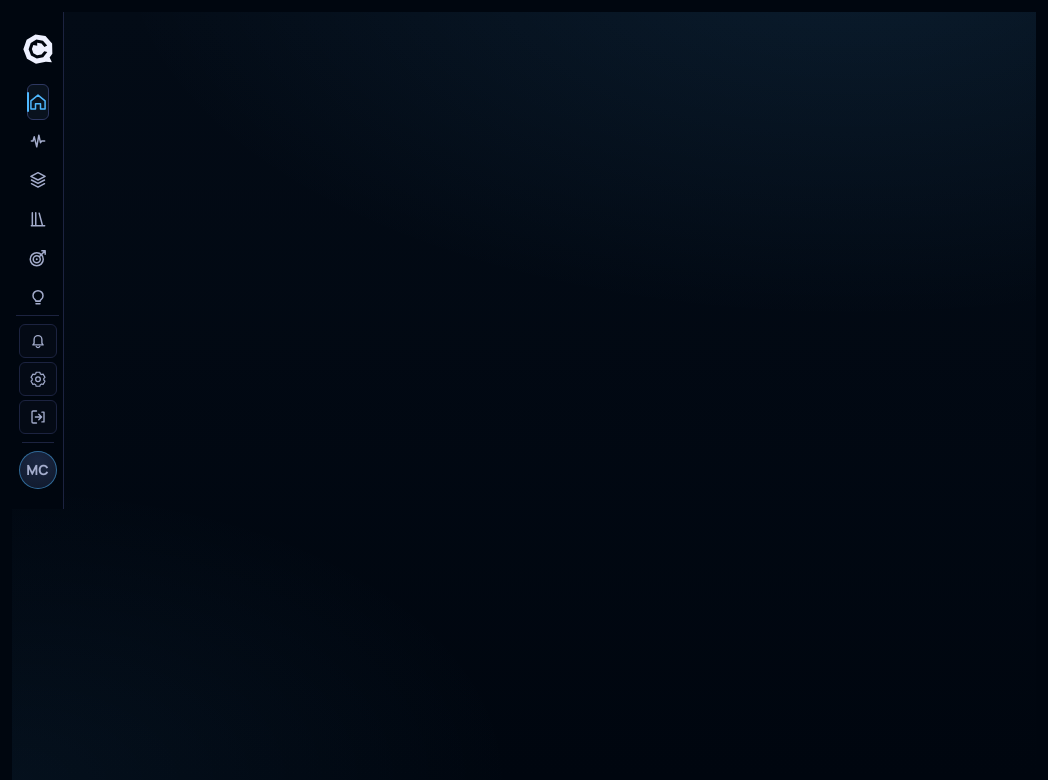
Test: NavRail — responsive modes › opens a stable-width, non-wrapping account menu to the right
Click the button with aria-label "account": (38, 470) left=18, top=451, right=56, bottom=489
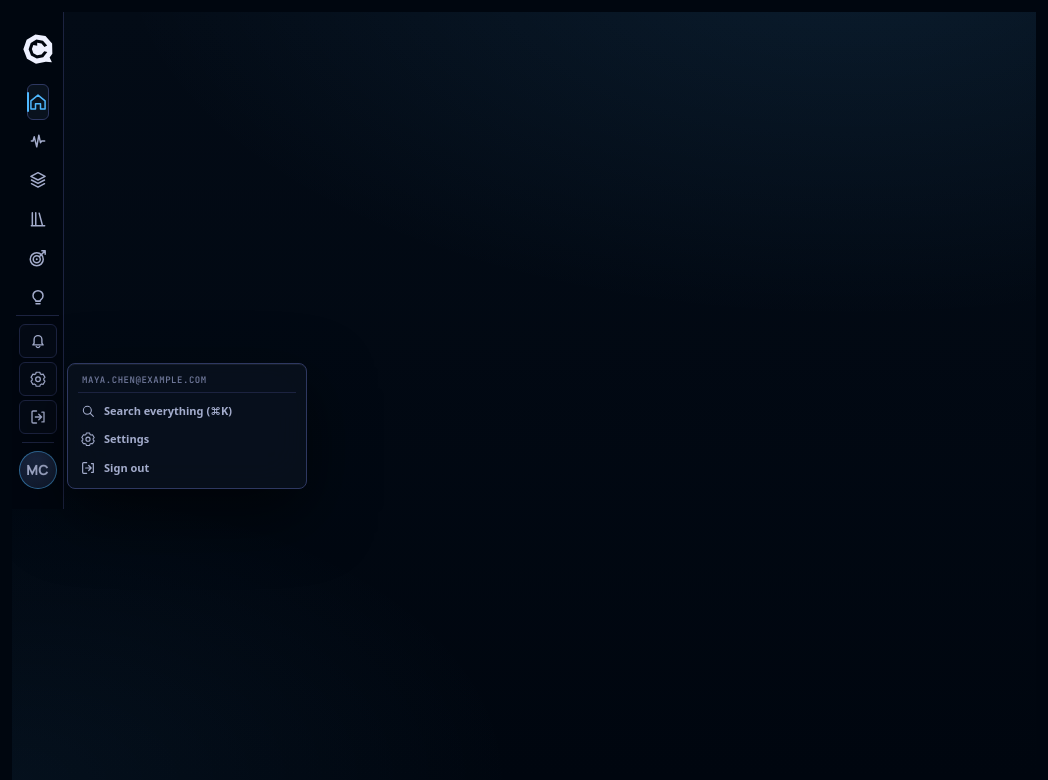
Check: the menu item "Settings" is shown, box left=74, top=425, right=300, bottom=454
Check: the menu item "Sign out" is shown, box left=74, top=454, right=300, bottom=482
Click the menu item "Search everything (⌘K)": (187, 411) left=74, top=396, right=300, bottom=425
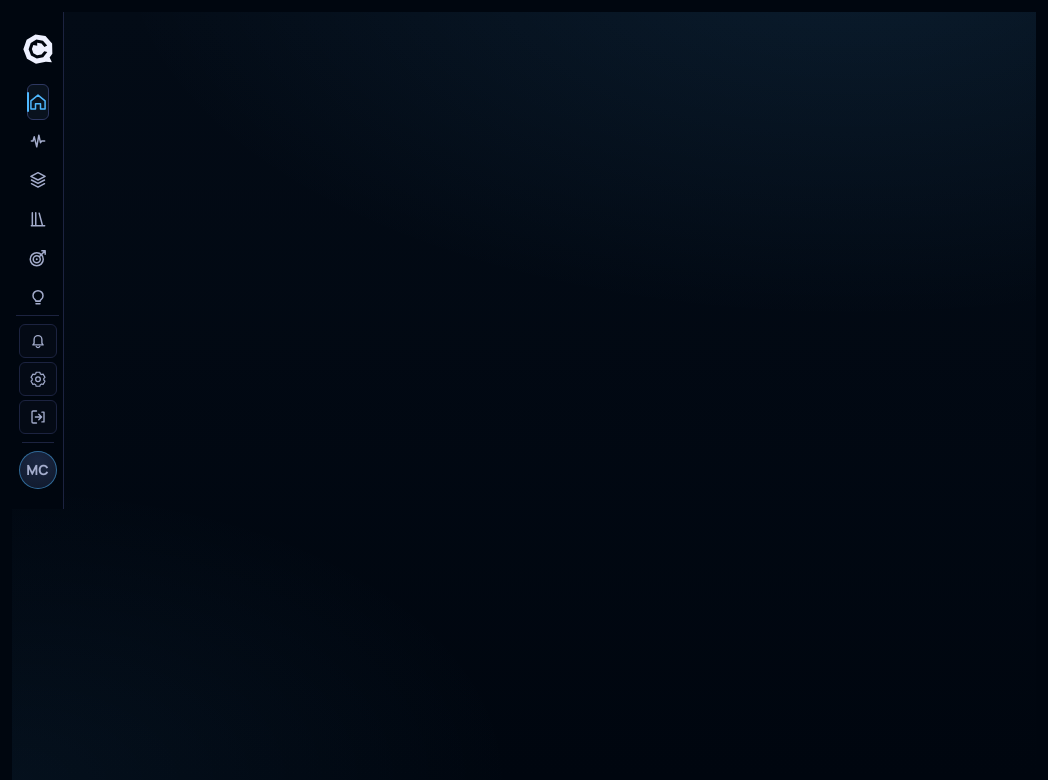
Check: the menu is gone
